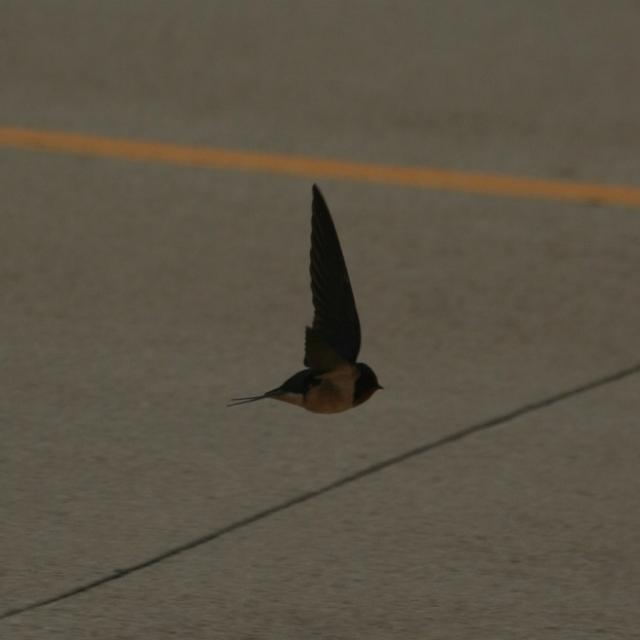bird: (224, 181, 390, 422)
